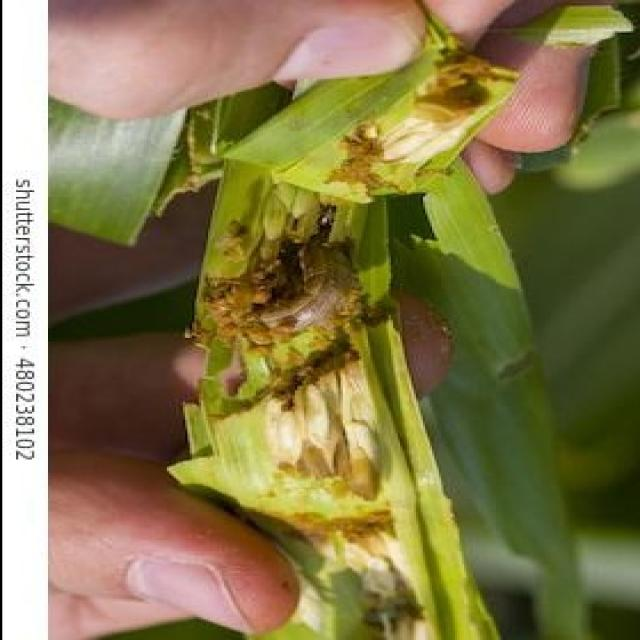army worm: (236, 237, 351, 352)
